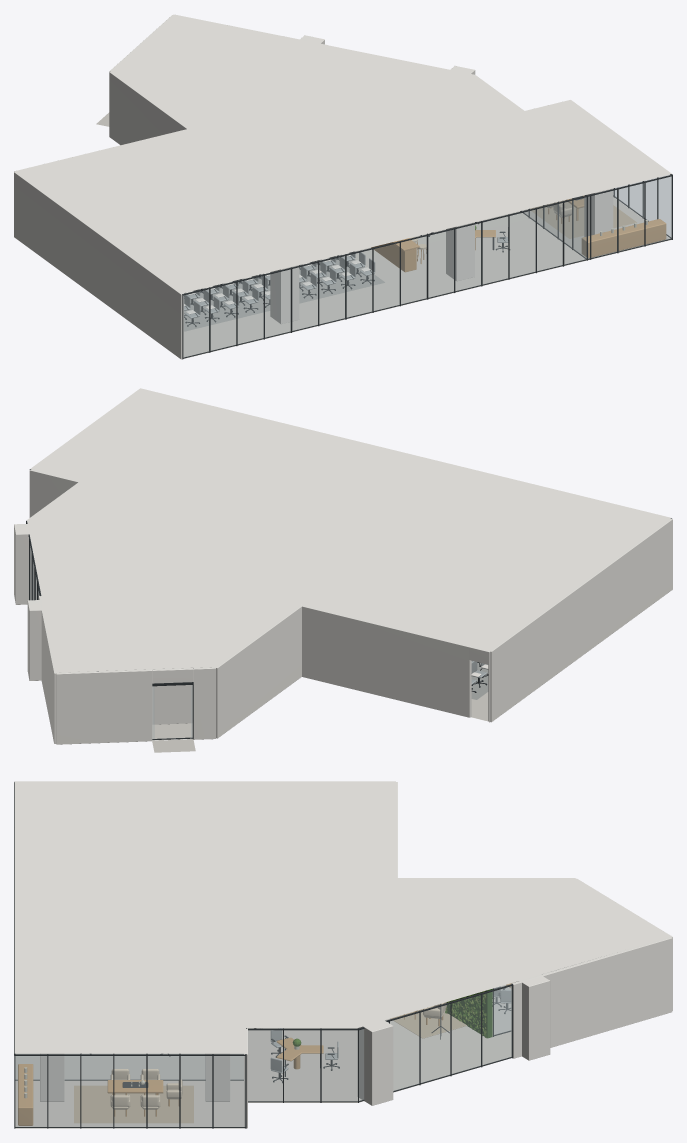
File: MindsLeap-office-option1-100-chairs.glb
3 views of the same model, one above another, from view 1: azimuth 30°, elevation 25°; view 2: azimuth 150°, elevation 25°; view 3: azimuth 270°, elevation 25° (orthographic). The views are drawn at different scales.
Parts seen in each view (by area): view 1: CEILING_toggle, South full glazing_glass, Floor footprint traced from original plan, West training solid wall, Storage west facade, Training carpet block 2, Tea low cabinet, Tea WEST clear glass_glass, Tea east outer glazing_glass, Structural_column_06, Structural_column_07, Tea woven rug (+4 smaller); view 2: CEILING_toggle, West training solid wall, North training boundary_right, Entrance exterior diagonal_right, Storage west facade, Entrance exterior diagonal_left, Meeting entrance-facing SOLID logo wall, Structural_column_03, Tea north enclosure outer return, Solid company culture perimeter, Structural_column_02, Floor footprint traced from original plan (+2 smaller); view 3: CEILING_toggle, Floor footprint traced from original plan, Tea east outer glazing_glass, Solid company culture perimeter, East upper window_glass, East lounge office window_glass, Tea woven rug, Tea WEST clear glass_glass, Structural_column_03, Structural_column_02, Structural_column_08, Structural_column_09 (+6 smaller).
Boxes of the visible parts, <box> form: CEILING_toggle: <box>16,14,671,293</box>; South full glazing_glass: <box>184,177,671,357</box>; Floor footprint traced from original plan: <box>184,197,671,358</box>; West training solid wall: <box>14,171,183,359</box>; Storage west facade: <box>109,71,188,145</box>; Training carpet block 2: <box>183,255,384,331</box>; Tea low cabinet: <box>581,219,666,258</box>; Tea WEST clear glass_glass: <box>523,195,585,257</box>; Tea east outer glazing_glass: <box>615,175,670,236</box>; Structural_column_06: <box>270,265,299,323</box>; Structural_column_07: <box>446,222,474,281</box>; Tea woven rug: <box>530,200,636,238</box>; CEILING_toggle: <box>27,388,670,672</box>; West training solid wall: <box>488,518,672,722</box>; North training boundary_right: <box>301,604,471,717</box>; Entrance exterior diagonal_right: <box>56,669,152,744</box>; Storage west facade: <box>215,605,301,738</box>; Entrance exterior diagonal_left: <box>193,667,215,739</box>; Meeting entrance-facing SOLID logo wall: <box>106,650,239,724</box>; Structural_column_03: <box>14,524,39,604</box>; Tea north enclosure outer return: <box>29,469,79,517</box>; Solid company culture perimeter: <box>38,596,57,743</box>; Structural_column_02: <box>27,600,43,680</box>; Floor footprint traced from original plan: <box>59,671,488,740</box>; CEILING_toggle: <box>14,781,670,1053</box>; Floor footprint traced from original plan: <box>15,985,511,1128</box>; Tea east outer glazing_glass: <box>15,1056,244,1126</box>; Solid company culture perimeter: <box>511,937,672,1058</box>; East upper window_glass: <box>359,986,511,1100</box>; East lounge office window_glass: <box>248,1030,357,1101</box>; Tea woven rug: <box>74,1085,193,1123</box>; Tea WEST clear glass_glass: <box>16,1056,243,1079</box>; Structural_column_03: <box>357,1020,393,1105</box>; Structural_column_02: <box>515,974,550,1060</box>; Structural_column_08: <box>205,1053,230,1101</box>; Structural_column_09: <box>40,1053,64,1101</box>.
Bounding box in the file's own units: 23.73 × 3.05 × 24.16.
